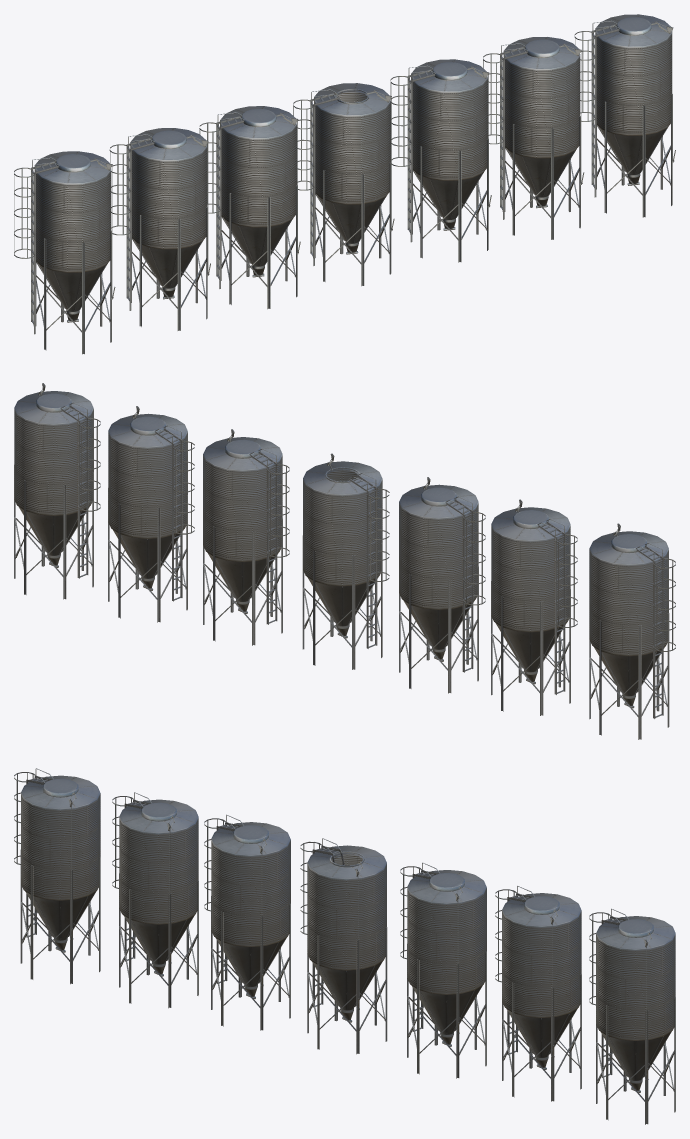
File: Silo_set_V2.fbx
3 renders of one model, top to bottom at view 1: azimuth 30°, elevation 25°; view 2: azimuth 150°, elevation 25°; view 3: azimuth 330°, elevation 25°, orthographic. The views are drawn at different scales.
Visible parts, largest first — view 1: silo05_Geo (×7), silo04_Geo (×7), silo07_Geo (×7), polySurface26 (×6), silo05_Geo1; view 2: silo05_Geo (×7), silo04_Geo (×7), silo07_Geo (×7), polySurface26 (×6), silo05_Geo1; view 3: silo05_Geo (×7), silo04_Geo (×7), silo07_Geo (×7), polySurface26 (×6), silo05_Geo1.
Part boxes in pixels (left/top/right/bottom): silo05_Geo (×7): left=34, top=14, right=671, bottom=322; silo04_Geo (×7): left=34, top=94, right=672, bottom=354; silo07_Geo (×7): left=14, top=20, right=619, bottom=326; polySurface26 (×6): left=56, top=17, right=651, bottom=171; silo05_Geo1: left=317, top=195, right=386, bottom=254; silo05_Geo (×7): left=14, top=391, right=668, bottom=708; silo04_Geo (×7): left=14, top=465, right=669, bottom=739; silo07_Geo (×7): left=60, top=402, right=675, bottom=718; polySurface26 (×6): left=36, top=393, right=646, bottom=552; silo05_Geo1: left=307, top=577, right=377, bottom=638; silo05_Geo (×7): left=21, top=775, right=675, bottom=1092; silo04_Geo (×7): left=20, top=849, right=675, bottom=1124; silo07_Geo (×7): left=14, top=768, right=628, bottom=1077; polySurface26 (×6): left=43, top=778, right=653, bottom=937; silo05_Geo1: left=312, top=961, right=381, bottom=1022.
Size of the model in its own units: 4450 by 1190 by 466.
1 material, 1 textured.
